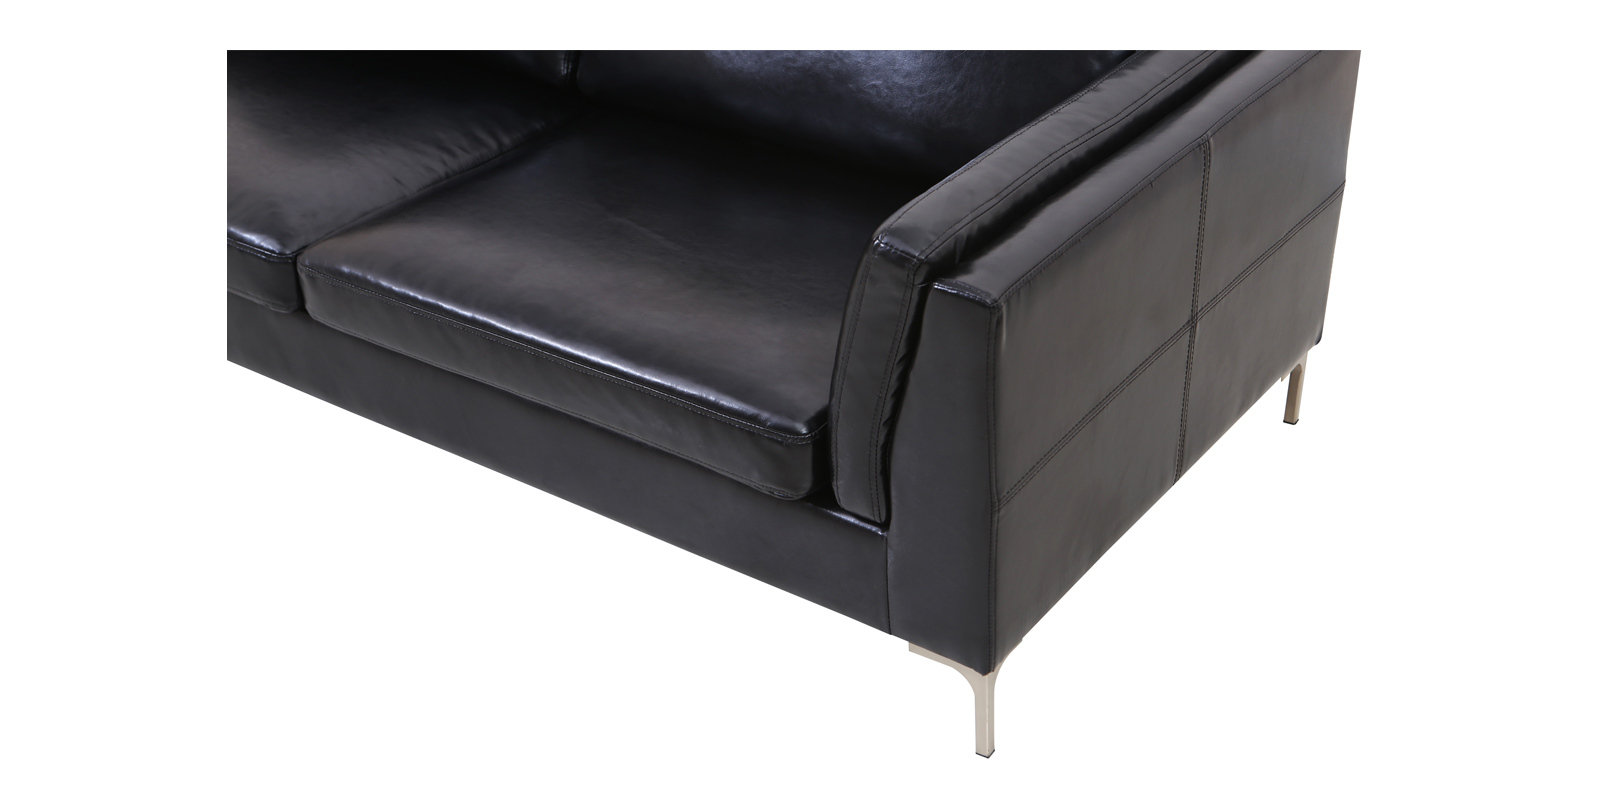Forma Three Seater Sofa in Black Colour by Zofa: (224, 53, 1368, 779)
